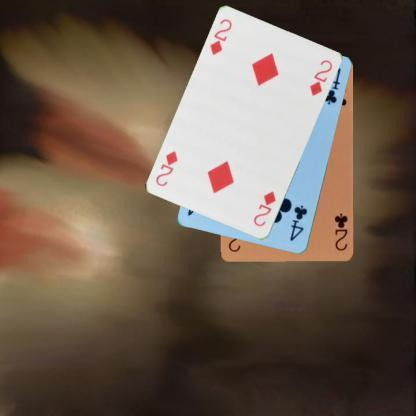2c: (332, 210, 349, 252)
2d: (250, 189, 278, 229), (207, 16, 233, 57)
4c: (287, 202, 309, 243)
